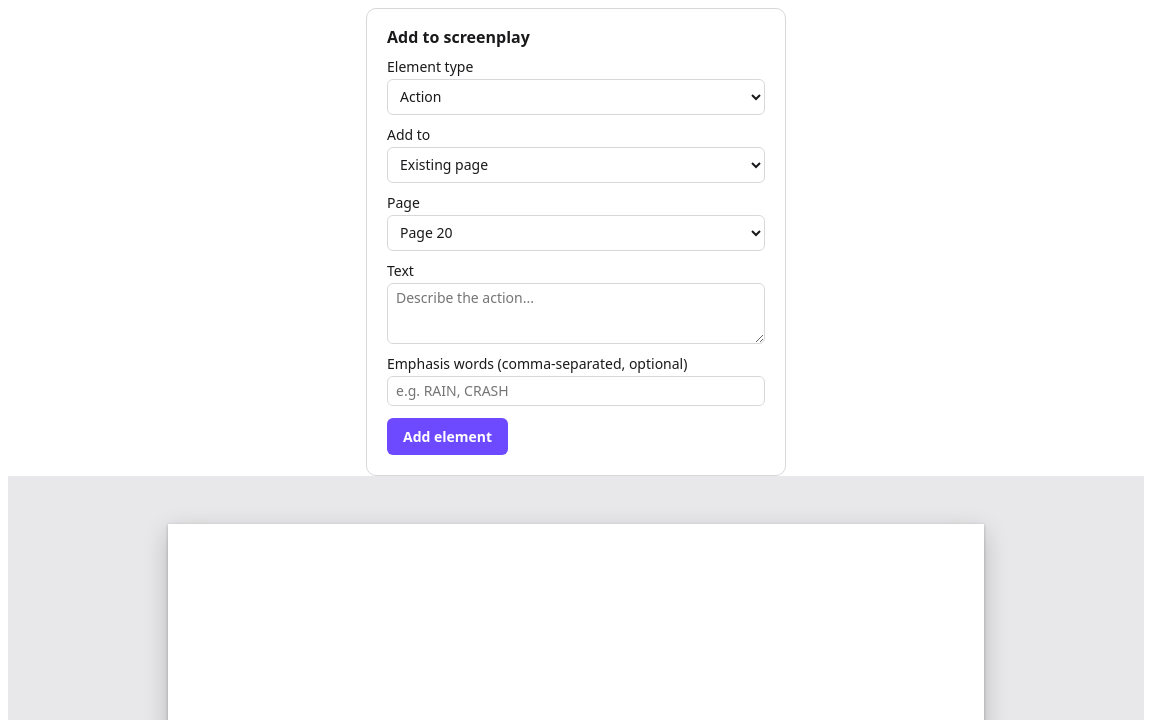
Test: App › appends a new element to the end of the chosen page
Select "Page 1" in the dropdown labelled "Page" at (576, 233), box top-left (387, 215), bottom-right (765, 250)
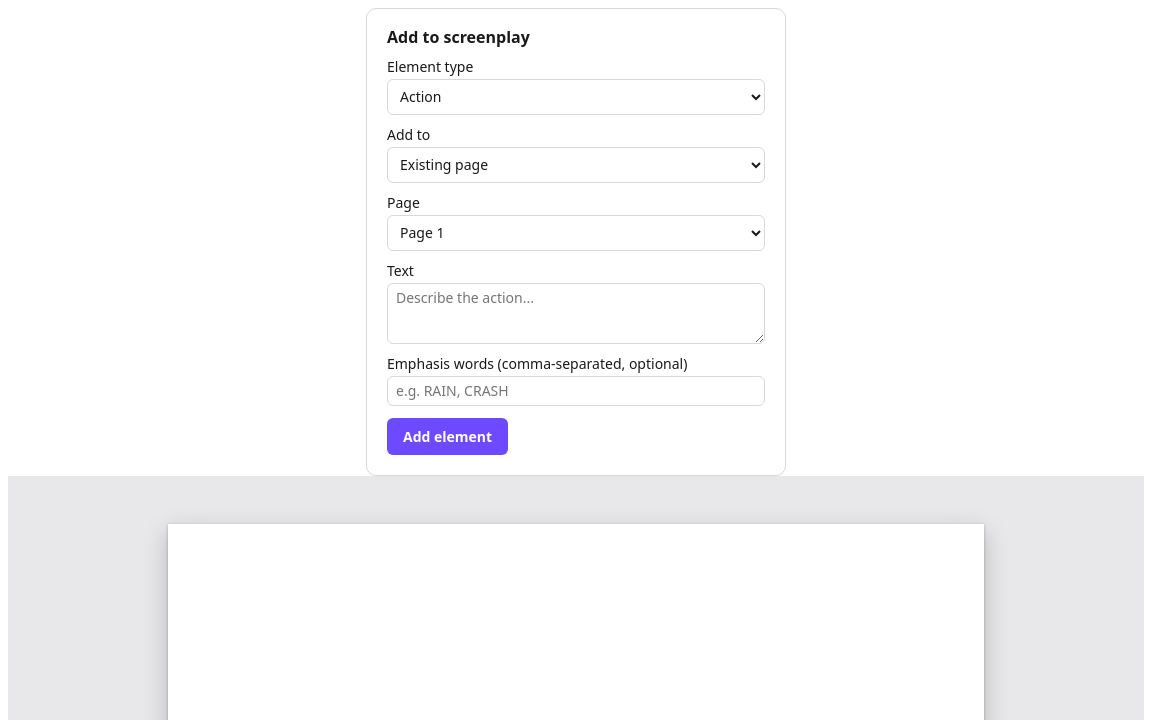
Type "A door slams." into the text box labelled "Text" at (576, 313), box top-left (387, 283), bottom-right (765, 344)
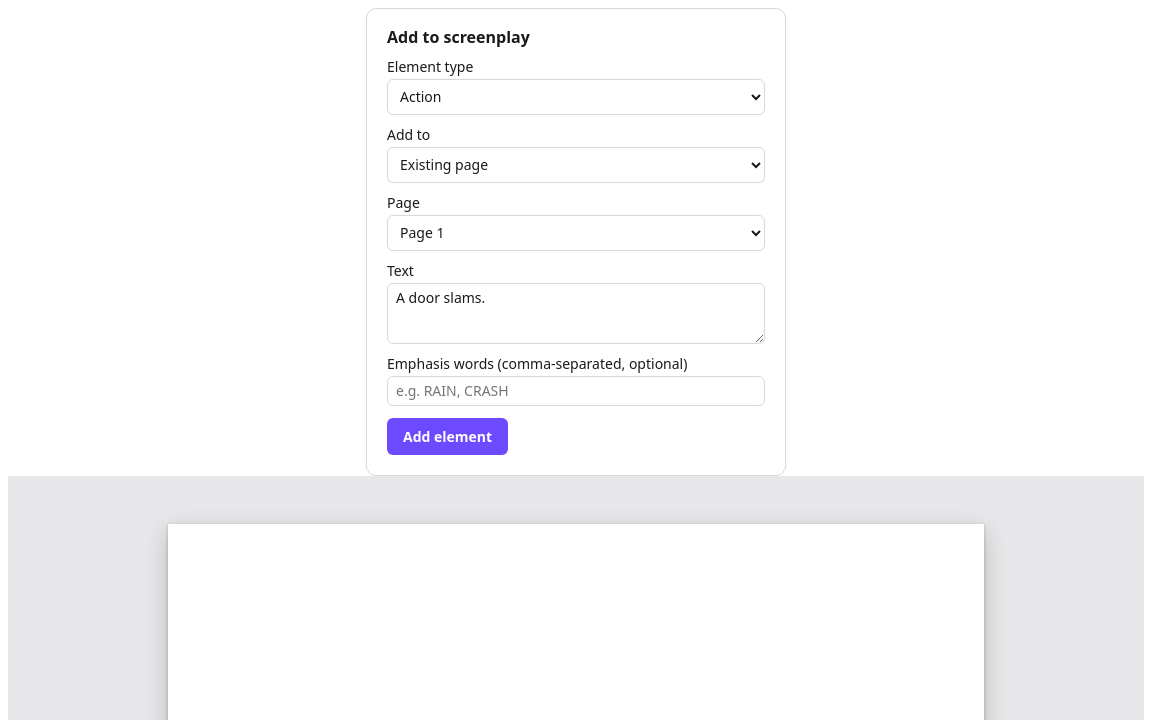
Submit the form with class "add-element-form", box top-left (366, 8), bottom-right (786, 476)
(page scrolled)
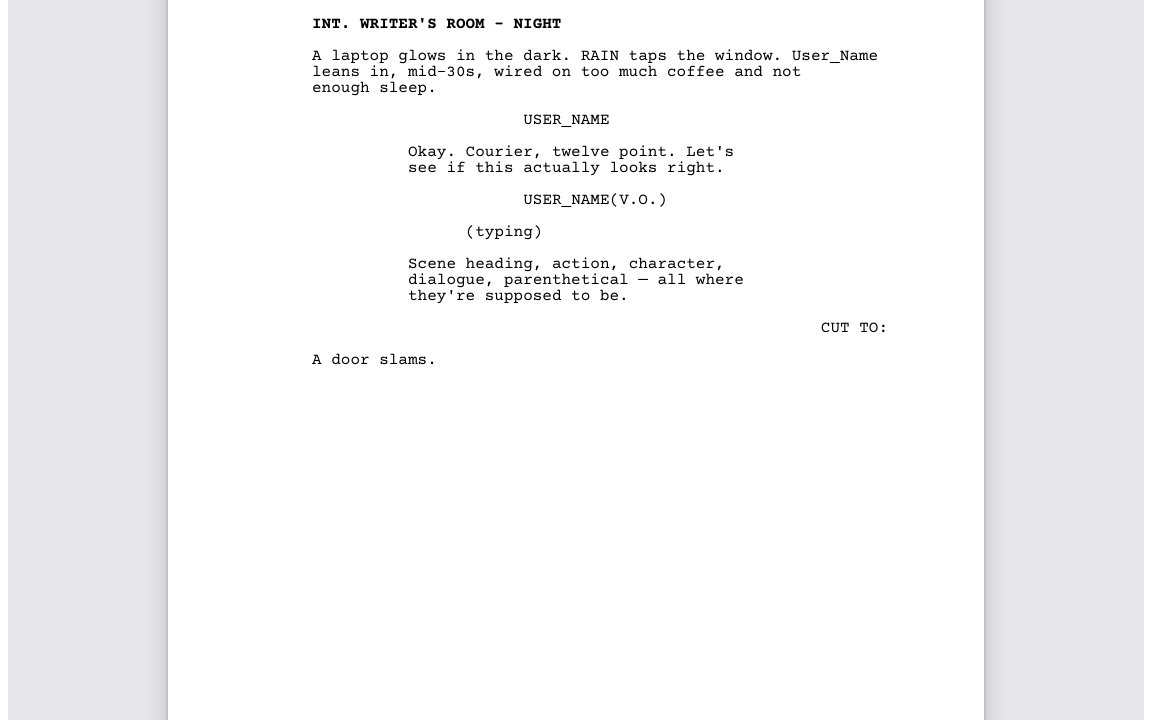
Expected: the text "A door slams." is shown, top-left (312, 351), bottom-right (437, 369)
